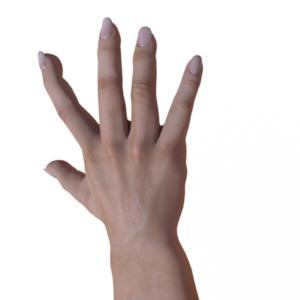paper: (39, 18, 202, 300)
